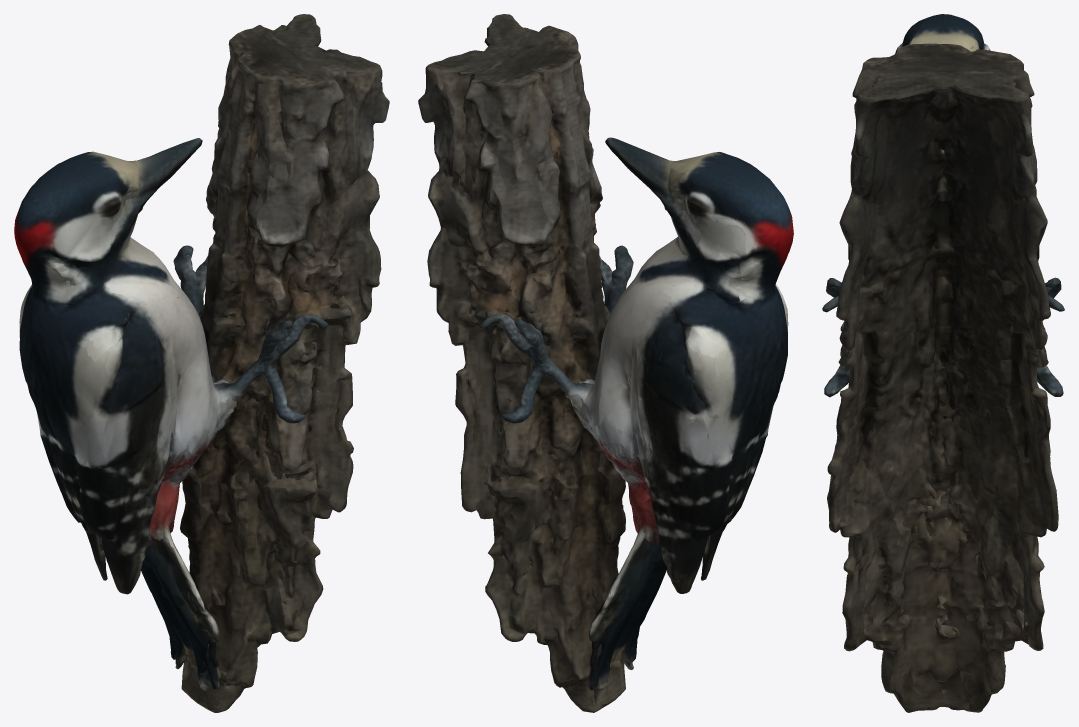
Rendered from great-spotted-woodpecker-v21-lod.glb.
3 renders of one model, left to right at view 1: azimuth 30°, elevation 25°; view 2: azimuth 150°, elevation 25°; view 3: azimuth 270°, elevation 25°, orthographic. The views are drawn at different scales.
Parts seen in each view (by area): view 1: geometry_0; view 2: geometry_0; view 3: geometry_0.
Boxes of the visible parts, left/top/right/bottom form: geometry_0: left=14, top=14, right=389, bottom=712; geometry_0: left=418, top=14, right=793, bottom=712; geometry_0: left=822, top=14, right=1064, bottom=712.
Size of the model in its own units: 0.1279 by 0.2298 by 0.0735.
Materials: 1 (1 with a texture image).
